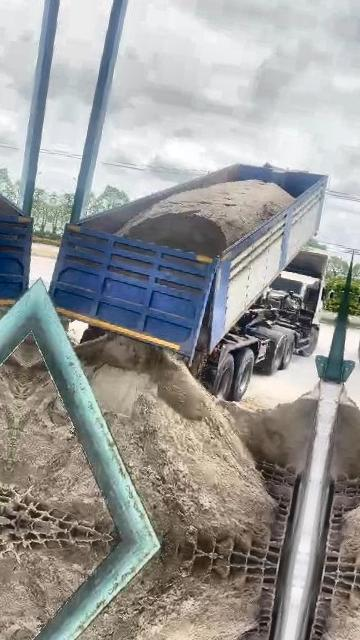sand: (77, 334, 274, 555), (6, 343, 112, 531), (118, 180, 293, 257), (218, 391, 318, 474), (192, 324, 207, 369), (240, 397, 264, 411)
